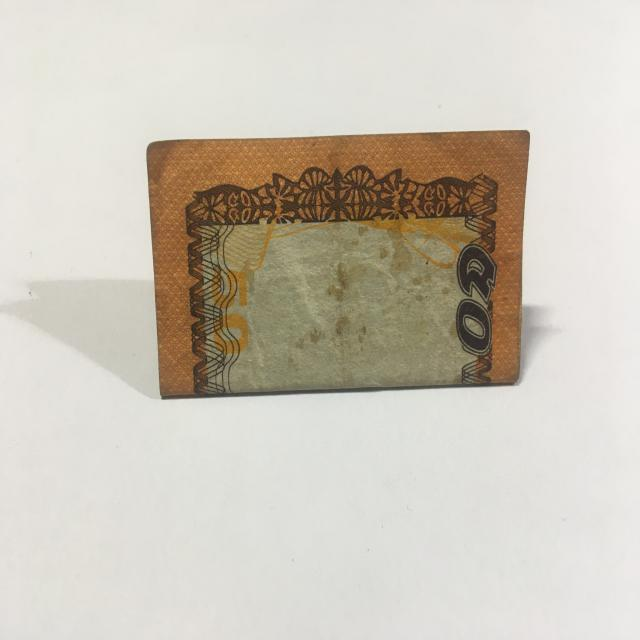Taka: (142, 129, 528, 397)
